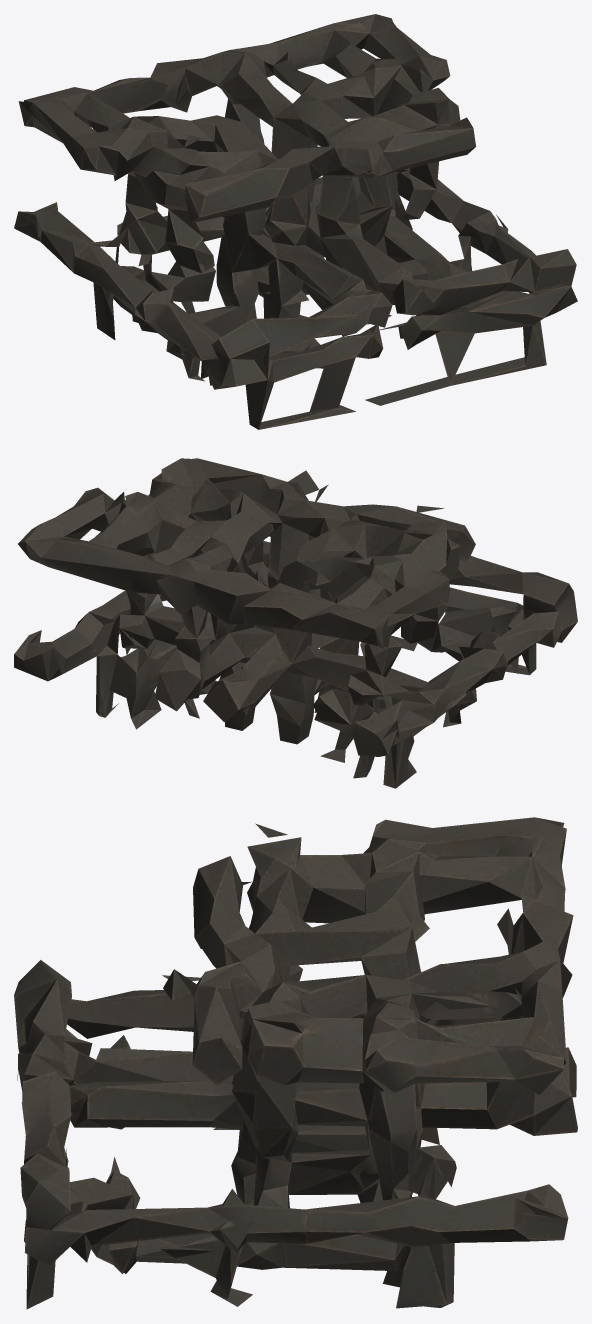
Rendered from pipe_cluster.glb.
3 views of the same model, one above another, from view 1: azimuth 30°, elevation 25°; view 2: azimuth 150°, elevation 25°; view 3: azimuth 270°, elevation 25° (orthographic). The views are drawn at different scales.
Bounding box in the file's own units: 5.17 × 3 × 4.99.
Materials: 1 (1 with a texture image).
